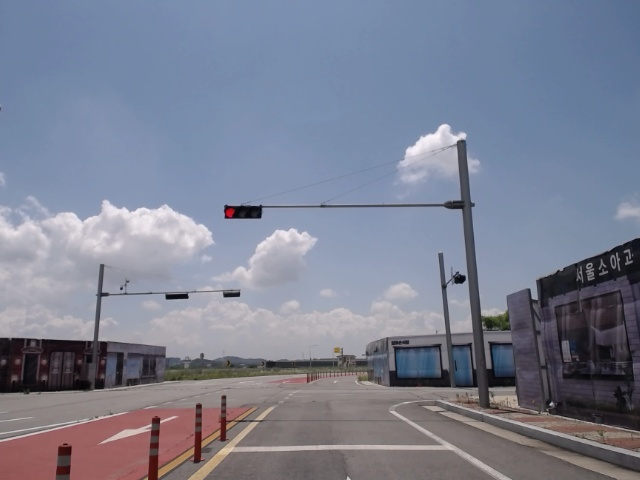red_3: (224, 203, 264, 220)
